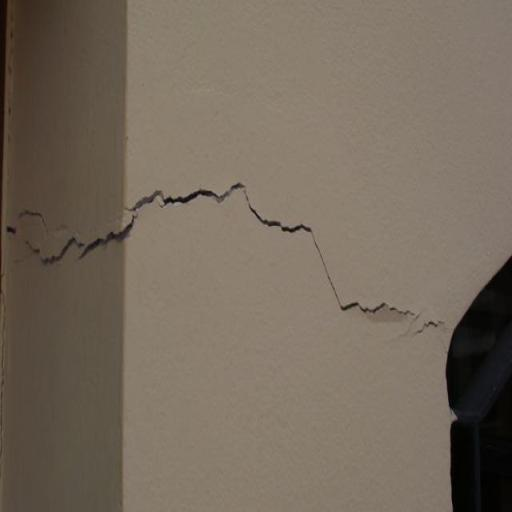spalling: (23, 174, 425, 329)
